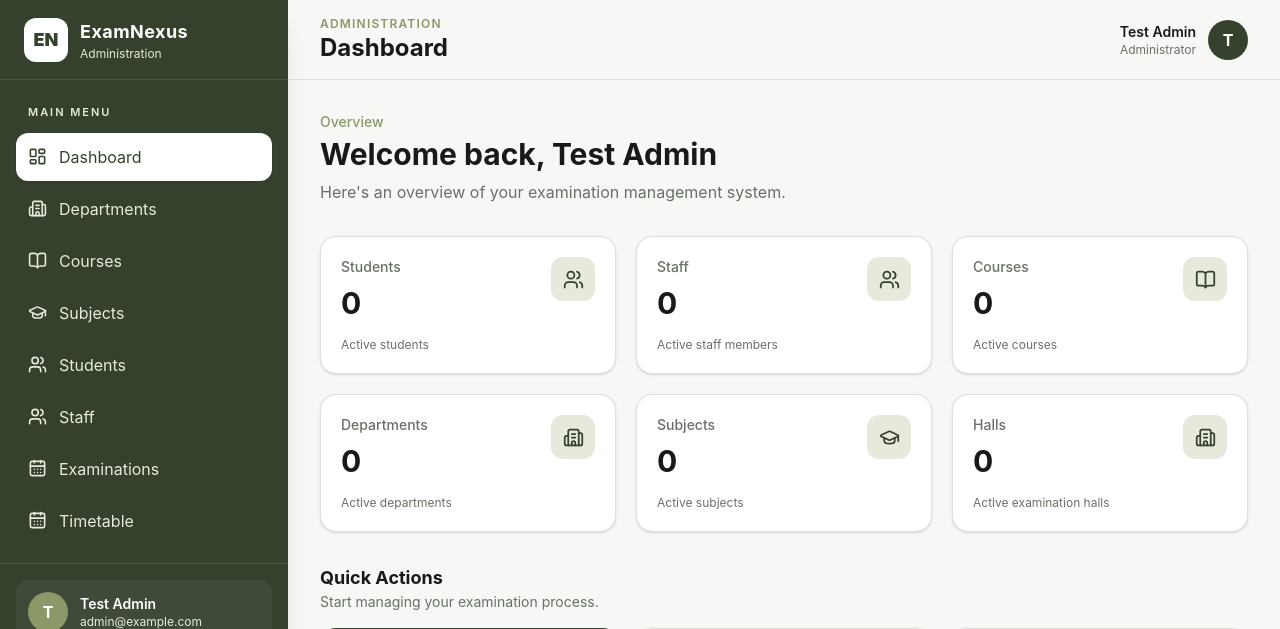
Test: Phase 13 — Timetable & Registrations › TT-03: Timetable server error surfaces
Check: the heading "Dashboard" is shown, box [320,32,448,64]
What coordinates should you click on to do the following:
click the button "Timetable"
I would click on:
 (144, 520)
Its box is [16,496,272,544].
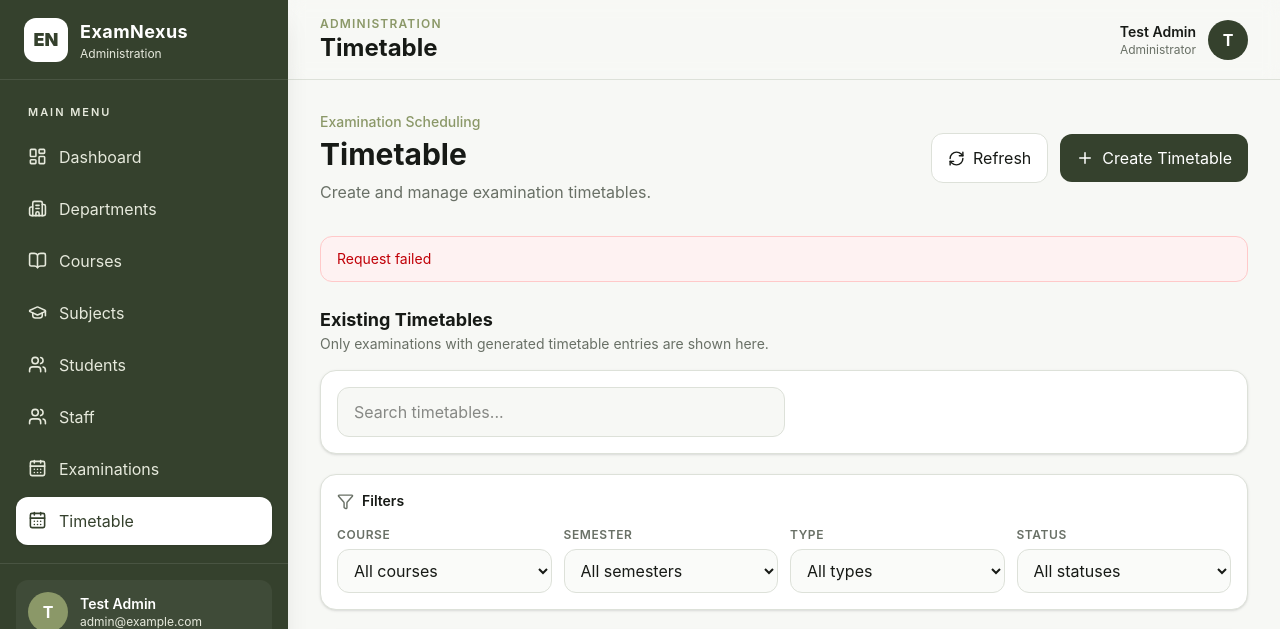
Check: the text "Request failed" is shown, box [320,236,1248,282]
